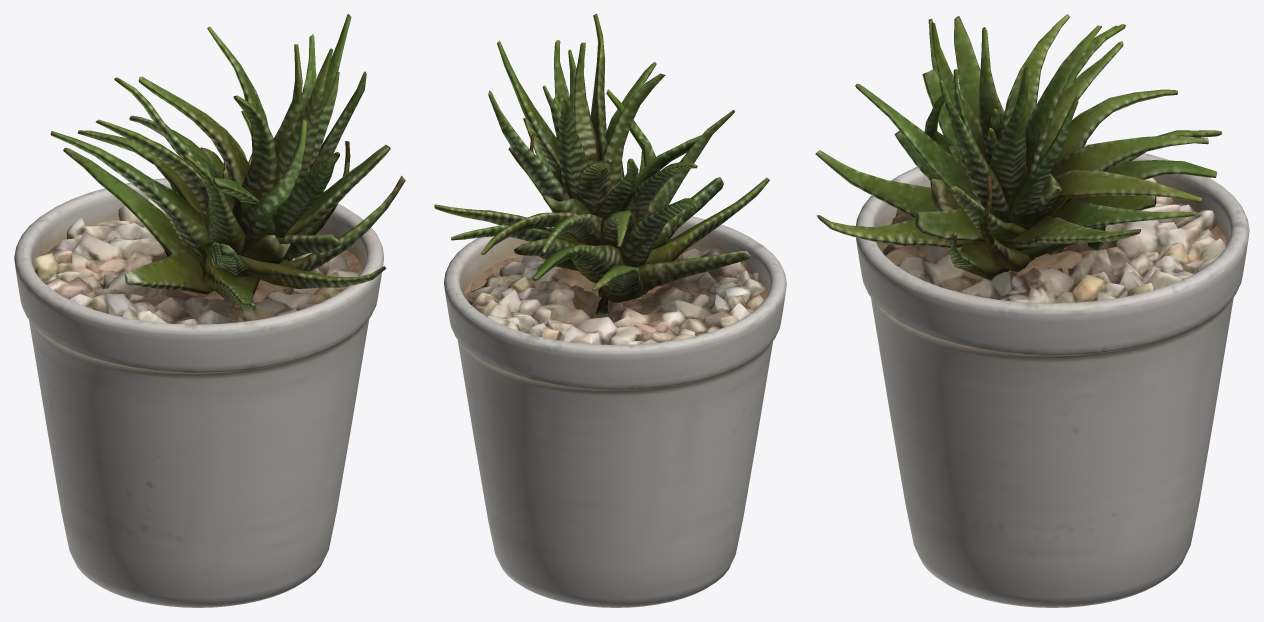
The model's file is plant-succulent.glb.
3 views of the same model, side by side, from view 1: azimuth 30°, elevation 25°; view 2: azimuth 150°, elevation 25°; view 3: azimuth 270°, elevation 25° (orthographic). The views are drawn at different scales.
Visible parts, largest first — view 1: potted_plant_04_ground; view 2: potted_plant_04_ground; view 3: potted_plant_04_ground.
Boxes of the visible parts, x1,y1,x2,y2 form: potted_plant_04_ground: [14, 14, 405, 607]; potted_plant_04_ground: [434, 14, 786, 607]; potted_plant_04_ground: [815, 14, 1249, 607].
Size of the model in its own units: 0.17 by 0.27 by 0.185.
Materials: 1 (1 with a texture image).
